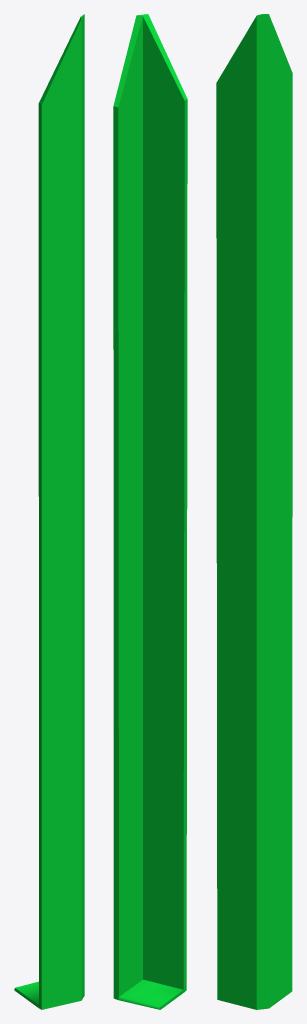
File: Cabinet_Leg.fbx
3 renders of one model, left to right at view 1: azimuth 30°, elevation 25°; view 2: azimuth 150°, elevation 25°; view 3: azimuth 330°, elevation 25°, orthographic. The views are drawn at different scales.
Parts seen in each view (by area): view 1: Cabinet_Leg; view 2: Cabinet_Leg; view 3: Cabinet_Leg.
Part boxes in pixels (x1,y1,x2,y2): Cabinet_Leg: (14, 14, 84, 1009); Cabinet_Leg: (113, 14, 187, 1009); Cabinet_Leg: (216, 14, 292, 1009).
Size of the model in its own units: 3.6 by 70.8 by 3.65.
